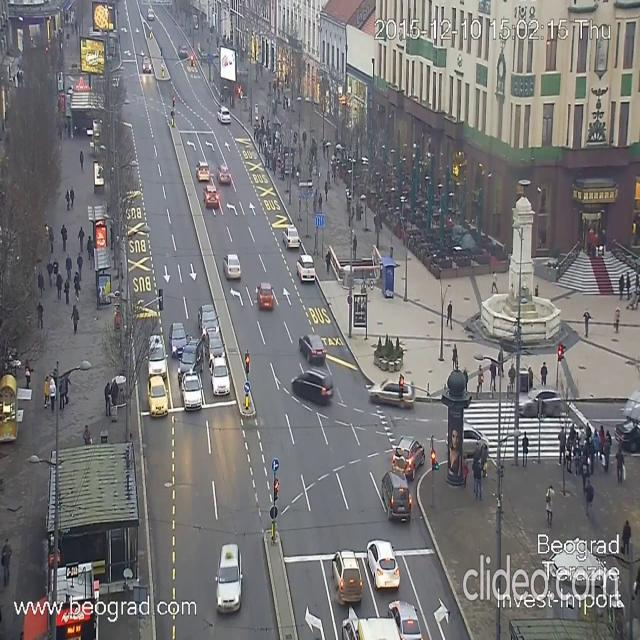car: (215, 543, 243, 613), (380, 469, 412, 523), (366, 540, 400, 590), (332, 550, 362, 606), (291, 364, 333, 404), (391, 435, 425, 480), (387, 599, 423, 639), (452, 426, 489, 460), (514, 390, 558, 417), (366, 380, 412, 404), (180, 334, 202, 383), (298, 334, 326, 364), (145, 332, 167, 370), (615, 415, 640, 448), (197, 304, 219, 339), (210, 358, 230, 396), (148, 375, 167, 414), (182, 374, 202, 406), (296, 254, 315, 283), (256, 282, 274, 310), (222, 253, 240, 279), (170, 319, 183, 354), (282, 224, 300, 249), (207, 334, 224, 358), (202, 184, 218, 207), (197, 161, 212, 185), (219, 162, 232, 189), (217, 105, 230, 123), (141, 57, 150, 75), (179, 44, 187, 64), (147, 8, 153, 22)
